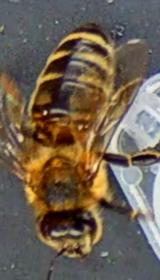varroa_mite: (28, 101, 48, 129)
